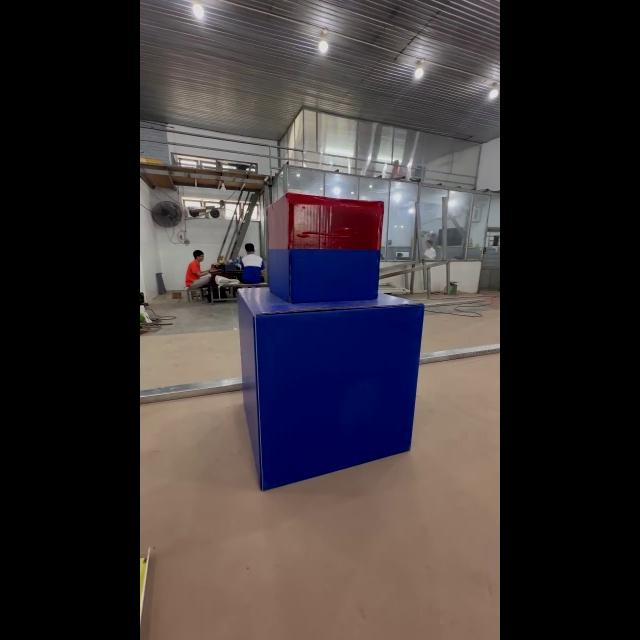earth_block: (234, 289, 425, 489)
sky_block: (262, 192, 386, 305)
